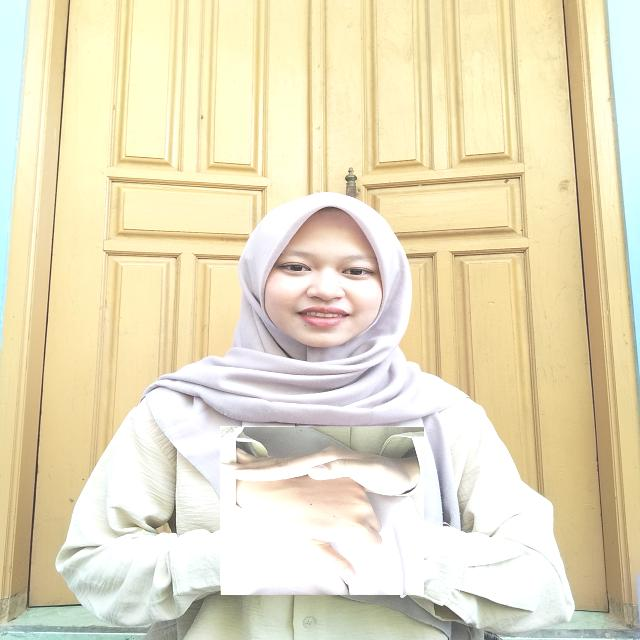cantik: (220, 426, 424, 595)
